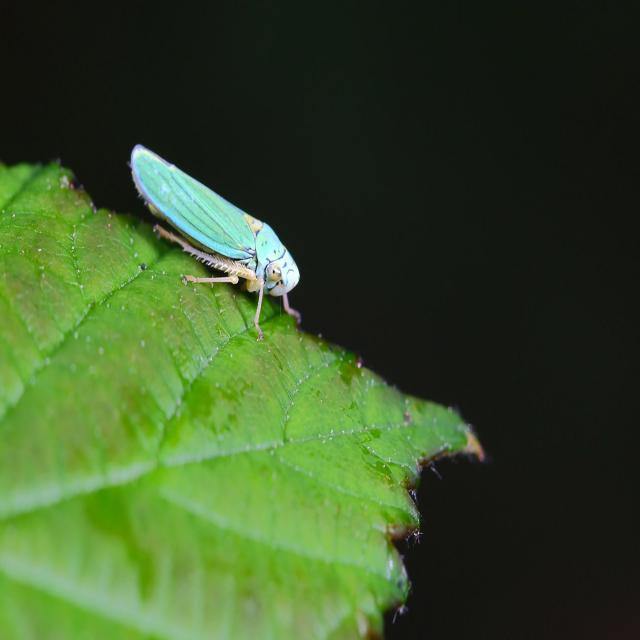Yechan: (127, 140, 306, 308)
